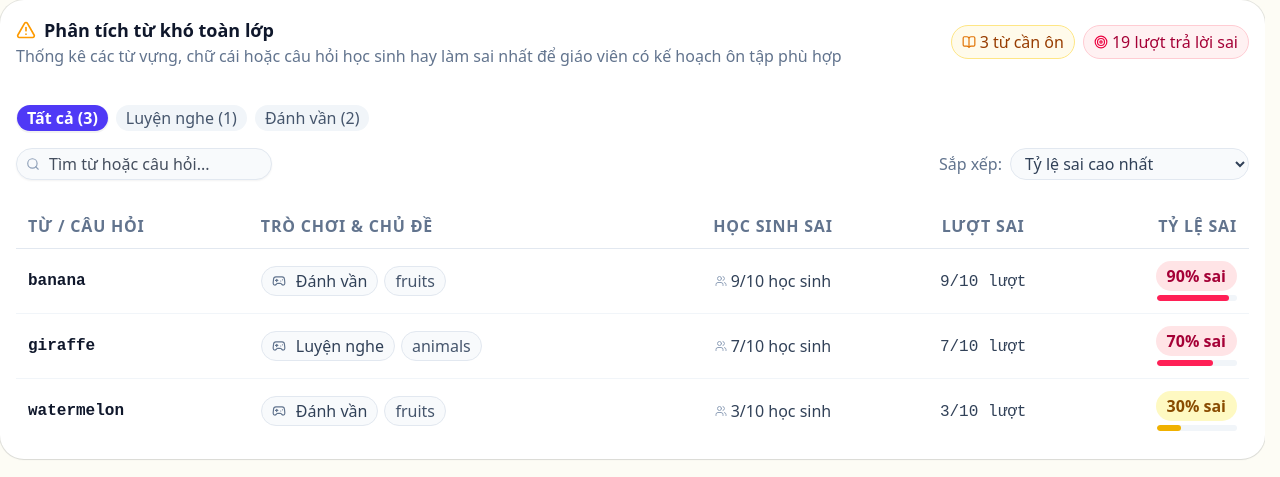
Test: DifficultWordsAnalysis Component › displays empty filter state when no words match search or game filter
Type "nonexistent-query" into the field with placeholder "Tìm từ hoặc câu hỏi..." at [144, 164], box [16,148,272,180]
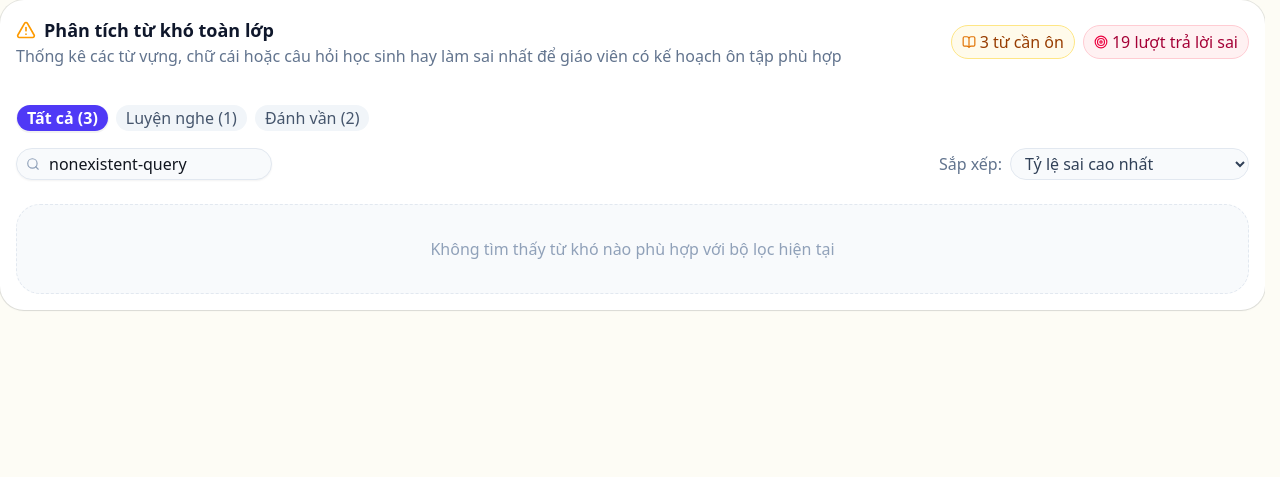
Expected: the text "Không tìm thấy từ khó nào phù hợp với bộ lọc hiện tại" is shown, [16,204,1249,294]
